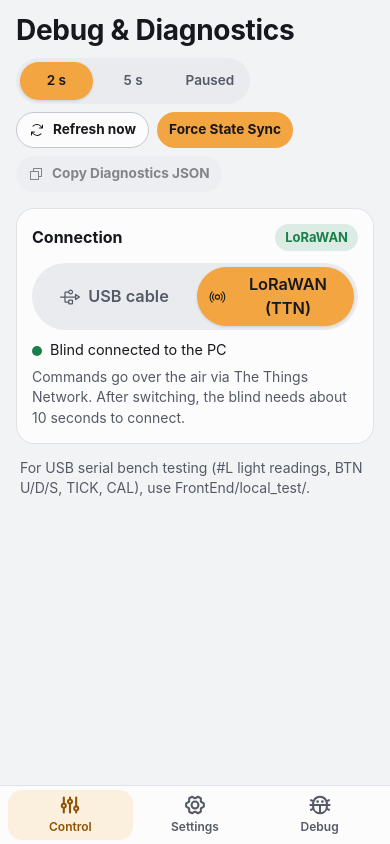
it: DebugPage › keeps the USB/TTN switch and shows the error when GET /debug fails
The image size is (390, 844).
// The switch shows as soon as /status answers, without waiting for /debug.
Click the radio button labelled "USB cable": coordinates (114, 297) [36,267,193,326]
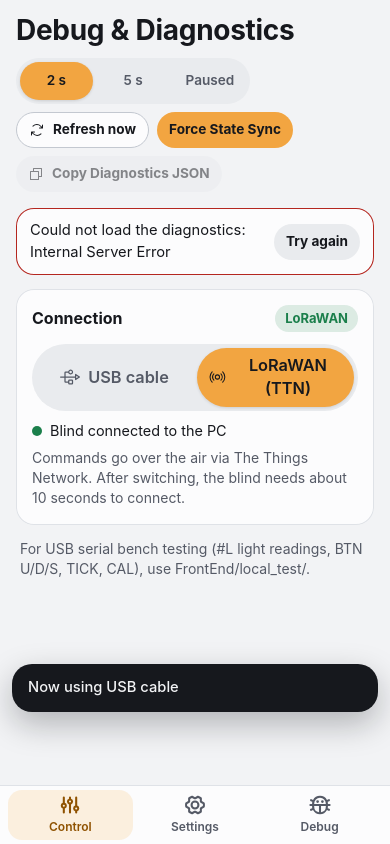
Expected: the text "Could not load the diagnostics: Internal Server Error" is shown, [30,220,262,263]
